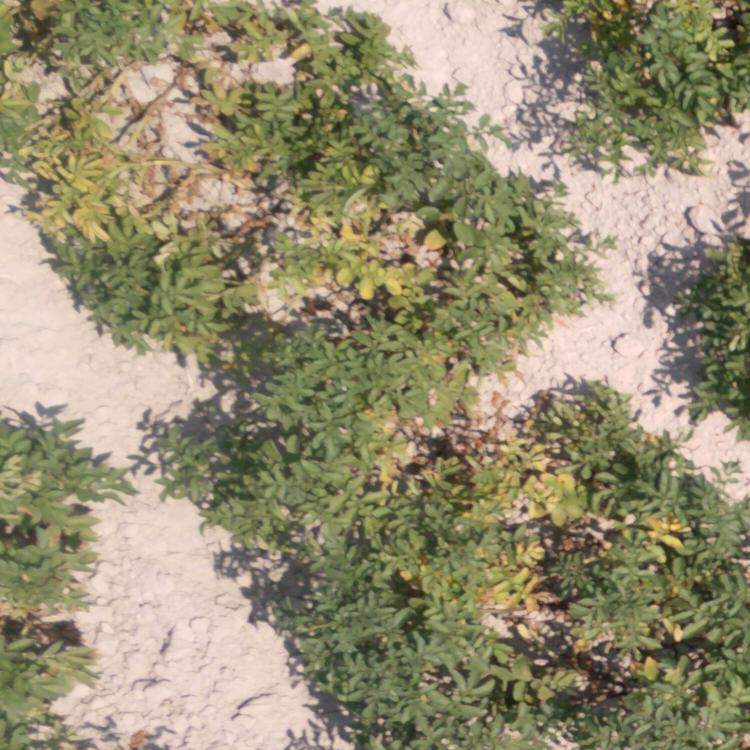healthy: (3, 416, 106, 750), (206, 395, 337, 620), (555, 4, 750, 148), (294, 625, 465, 750), (672, 241, 750, 449)
stressed: (31, 149, 556, 300), (1, 8, 433, 150), (345, 390, 570, 623), (597, 454, 748, 750), (108, 302, 506, 381), (489, 639, 575, 750)
